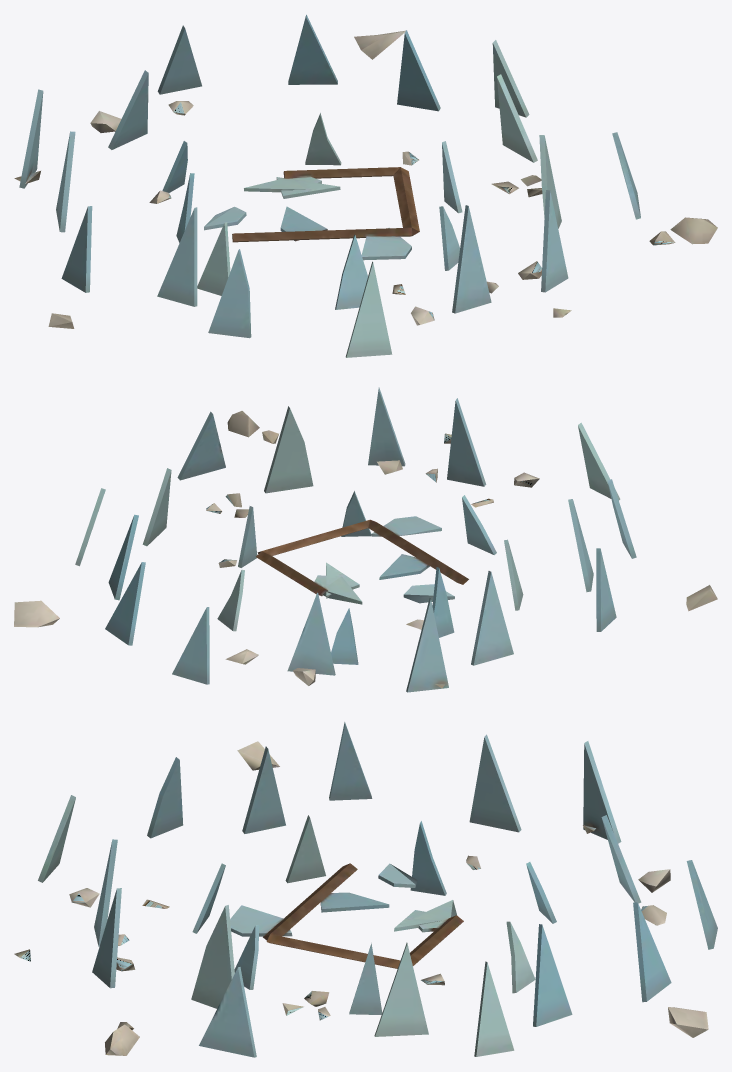
The model's file is trap-glass.low.glb.
The picture shows the model from 3 angles, top to bottom: view 1: azimuth 30°, elevation 25°; view 2: azimuth 150°, elevation 25°; view 3: azimuth 270°, elevation 25°; orthographic projection. The views are drawn at different scales.
Visible parts, largest first — view 1: trap-glass:static, trap-glass:tooth-1-mesh, trap-glass:tooth-0-mesh, trap-glass:tooth-4-mesh, trap-glass:tooth-2-mesh, trap-glass:tooth-3-mesh, trap-glass:tooth-5-mesh; view 2: trap-glass:static, trap-glass:tooth-5-mesh, trap-glass:tooth-6-mesh, trap-glass:tooth-1-mesh, trap-glass:tooth-4-mesh, trap-glass:tooth-3-mesh, trap-glass:tooth-2-mesh, trap-glass:tooth-0-mesh; view 3: trap-glass:static, trap-glass:tooth-0-mesh, trap-glass:tooth-6-mesh, trap-glass:tooth-3-mesh, trap-glass:tooth-4-mesh, trap-glass:tooth-2-mesh, trap-glass:tooth-5-mesh, trap-glass:tooth-1-mesh.
Part boxes in pixels (x1,y1,x2,y2): trap-glass:static: (14, 14, 717, 357); trap-glass:tooth-1-mesh: (335, 234, 367, 309); trap-glass:tooth-0-mesh: (197, 222, 230, 295); trap-glass:tooth-4-mesh: (305, 113, 341, 165); trap-glass:tooth-2-mesh: (439, 206, 459, 270); trap-glass:tooth-3-mesh: (442, 141, 462, 213); trap-glass:tooth-5-mesh: (162, 141, 187, 192); trap-glass:static: (14, 387, 717, 692); trap-glass:tooth-5-mesh: (331, 608, 358, 664); trap-glass:tooth-6-mesh: (432, 567, 454, 637); trap-glass:tooth-1-mesh: (462, 495, 496, 554); trap-glass:tooth-4-mesh: (217, 569, 244, 631); trap-glass:tooth-3-mesh: (238, 506, 257, 567); trap-glass:tooth-2-mesh: (341, 491, 371, 536); trap-glass:tooth-0-mesh: (504, 539, 523, 610); trap-glass:static: (14, 722, 717, 1057); trap-glass:tooth-0-mesh: (285, 815, 325, 883); trap-glass:tooth-6-mesh: (410, 821, 446, 895); trap-glass:tooth-3-mesh: (349, 943, 382, 1014); trap-glass:tooth-4-mesh: (506, 921, 535, 993); trap-glass:tooth-2-mesh: (234, 925, 259, 989); trap-glass:tooth-5-mesh: (526, 862, 556, 923); trap-glass:tooth-1-mesh: (192, 863, 225, 933).
Bounding box in the file's own units: 1.55 × 0.2866 × 1.51.
Materials: 1 (1 with a texture image).
